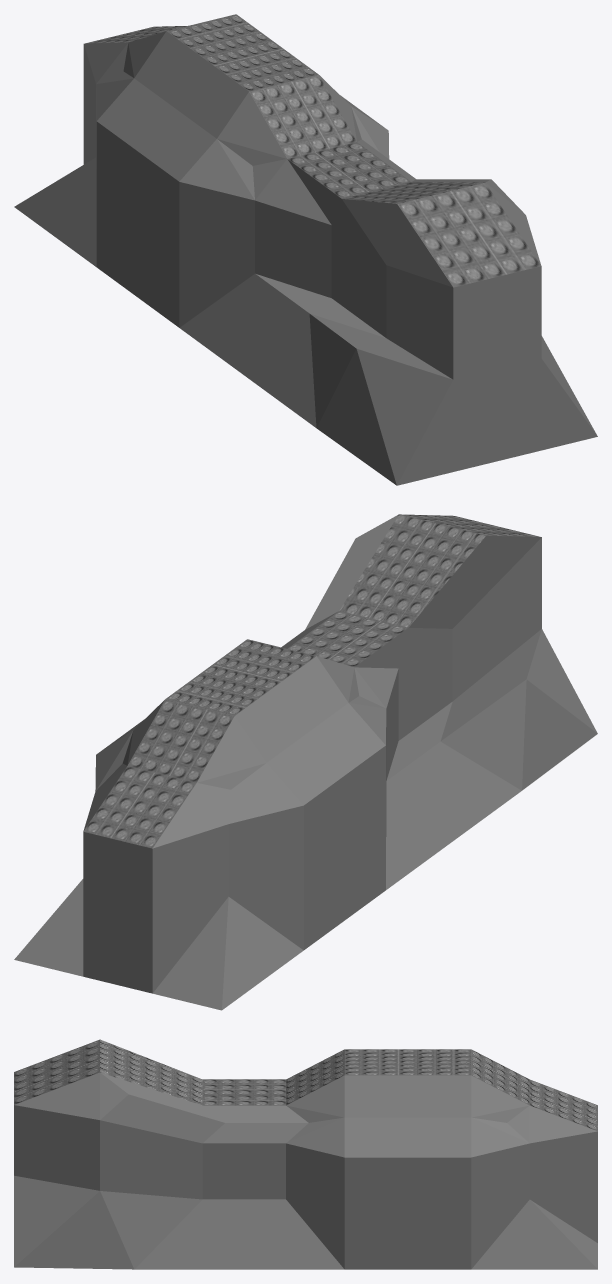
The picture shows the model from 3 angles, top to bottom: view 1: azimuth 30°, elevation 25°; view 2: azimuth 150°, elevation 25°; view 3: azimuth 270°, elevation 25°; orthographic projection. The views are drawn at different scales.
Visible parts, largest first — view 1: rock1_Cube.001_Material.001, rock1_Cube.001_Material.002; view 2: rock1_Cube.001_Material.001, rock1_Cube.001_Material.002; view 3: rock1_Cube.001_Material.001, rock1_Cube.001_Material.002.
Boxes of the visible parts, x1=… form: rock1_Cube.001_Material.001: x1=14, y1=31, x2=597, y2=485; rock1_Cube.001_Material.002: x1=85, y1=14, x2=540, y2=287; rock1_Cube.001_Material.001: x1=14, y1=514, x2=597, y2=1010; rock1_Cube.001_Material.002: x1=83, y1=514, x2=541, y2=848; rock1_Cube.001_Material.001: x1=14, y1=1072, x2=597, y2=1269; rock1_Cube.001_Material.002: x1=14, y1=1039, x2=597, y2=1131.
Bounding box in the file's own units: 2 × 2.07 × 6.3.
